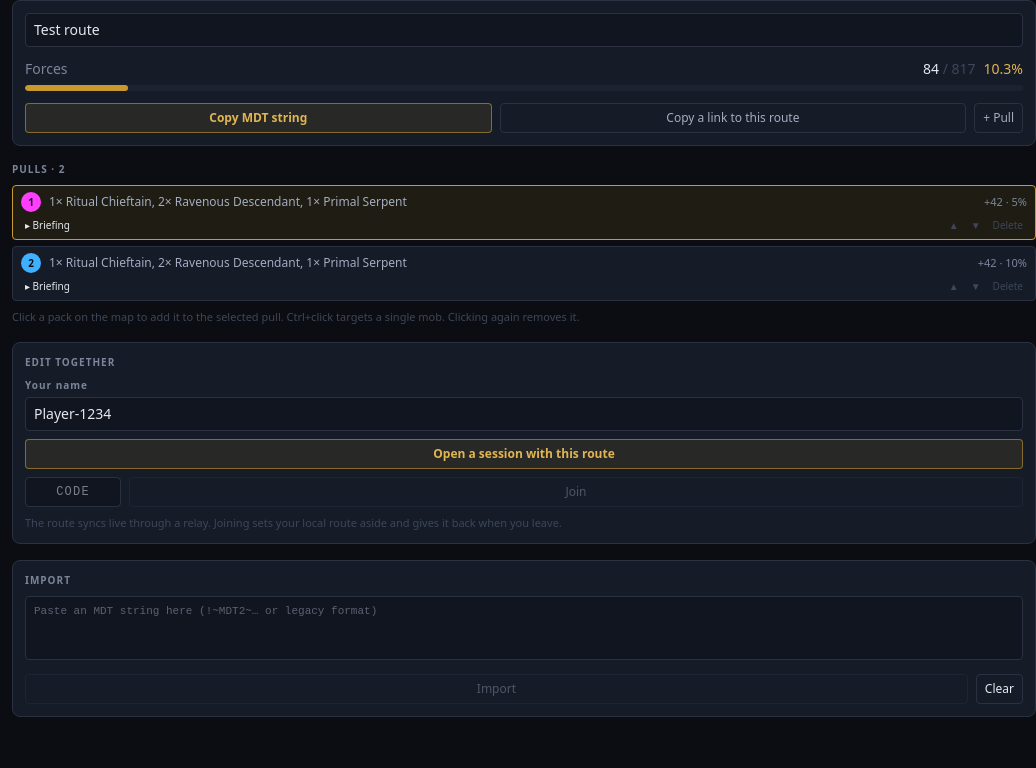
Test case: Export › copies a re-importable MDT string to the clipboard
Click the button "Copy MDT string": {"x": 258, "y": 118} [25,103,492,133]
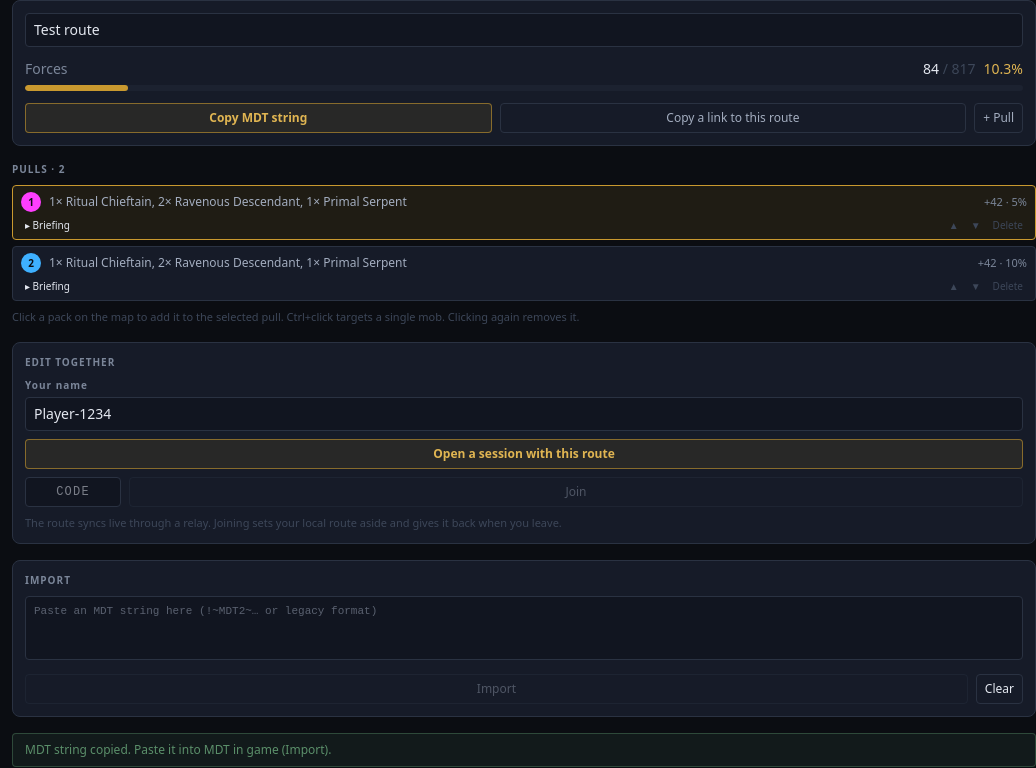
Check: the text "MDT string copied. Paste it into MDT in game (Import)." is shown, box [12,732,1035,766]
